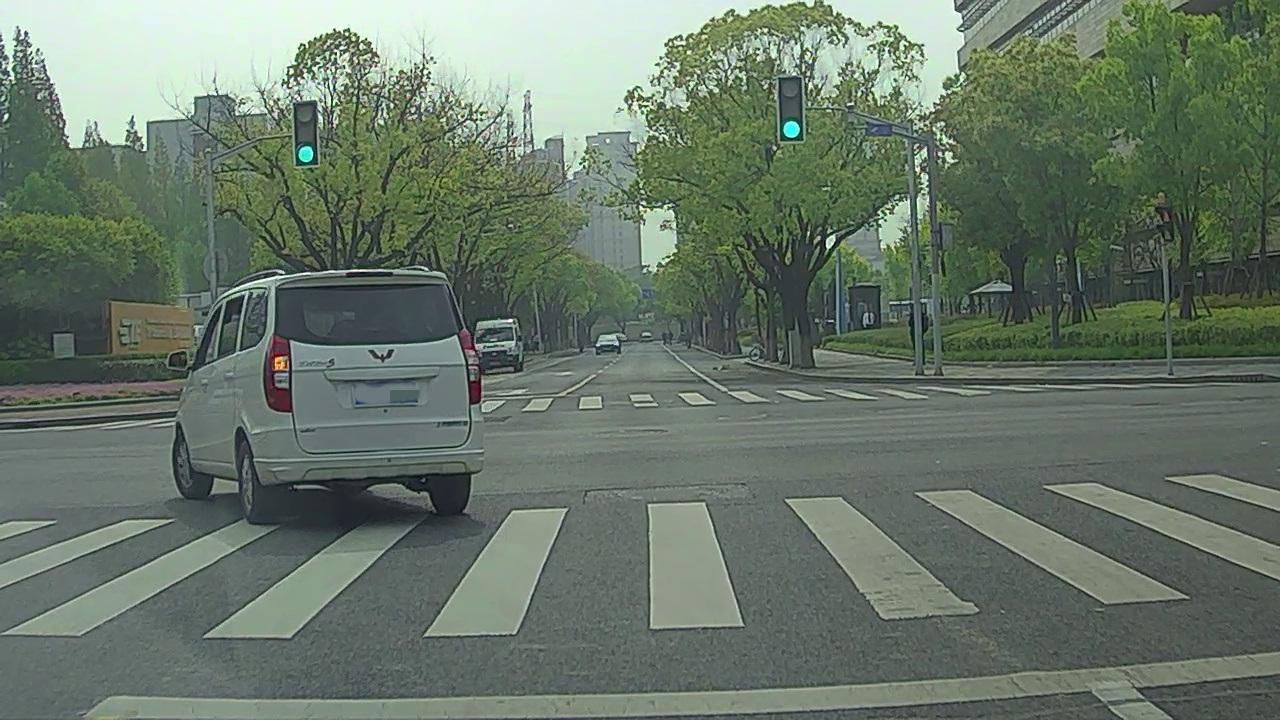traffic_light: (779, 77, 804, 142), (293, 103, 318, 165)
